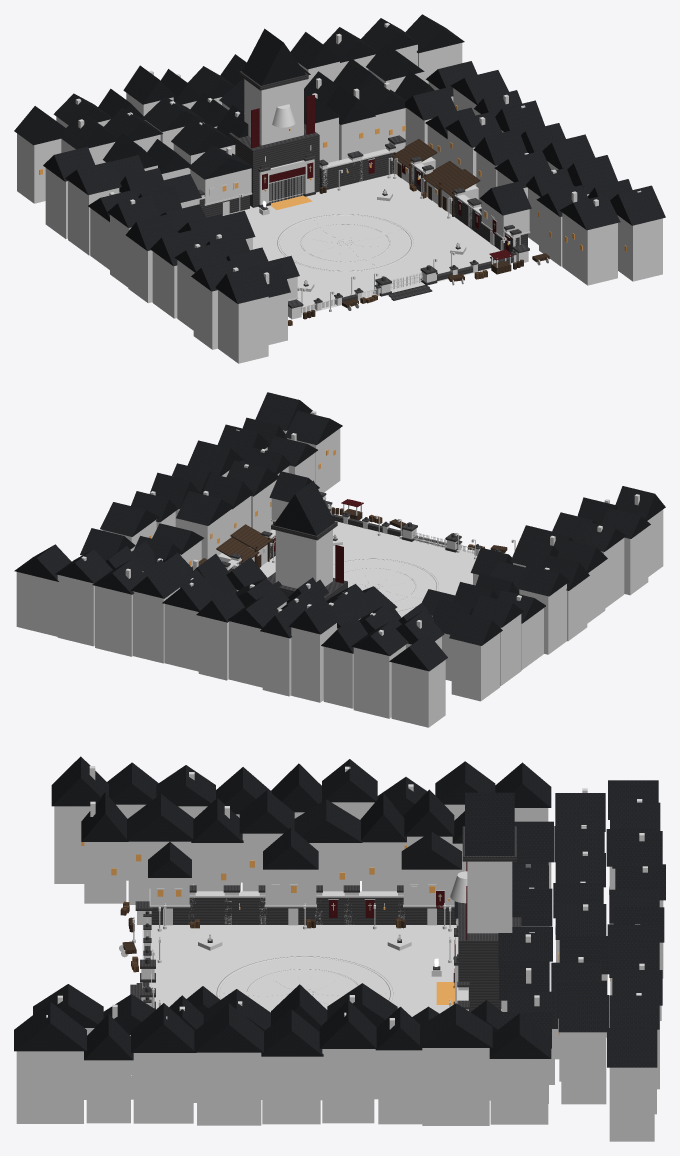
File: town_boss_blackbell_01.fbx
3 views of the same model, one above another, from view 1: azimuth 30°, elevation 25°; view 2: azimuth 150°, elevation 25°; view 3: azimuth 270°, elevation 25° (orthographic). The views are drawn at different scales.
Visible parts, largest first — view 1: _MeshInstance3D_4053, _MeshInstance3D_4834, _MeshInstance3D_4568, _MeshInstance3D_4442, _MeshInstance3D_4835, _MeshInstance3D_4603, _MeshInstance3D_4837, _MeshInstance3D_4159, _MeshInstance3D_4415, _MeshInstance3D_4604, _MeshInstance3D_4438, _MeshInstance3D_4443 (+84 smaller); view 2: _MeshInstance3D_4053, _MeshInstance3D_4159, _MeshInstance3D_4835, _MeshInstance3D_4411, _MeshInstance3D_4162, _MeshInstance3D_4195, _MeshInstance3D_4168, _MeshInstance3D_4191, _MeshInstance3D_4198, _MeshInstance3D_4188, _MeshInstance3D_4183, _MeshInstance3D_4176 (+73 smaller); view 3: _MeshInstance3D_4053, _MeshInstance3D_4578, _MeshInstance3D_4603, _MeshInstance3D_4591, _MeshInstance3D_4594, _MeshInstance3D_4589, _MeshInstance3D_4586, _MeshInstance3D_4574, _MeshInstance3D_4198, _MeshInstance3D_4583, _MeshInstance3D_4157, _MeshInstance3D_4835 (+80 smaller).
Boxes of the visible parts, x1,y1,x2,y2 form: _MeshInstance3D_4053: [222, 173, 512, 314]; _MeshInstance3D_4834: [228, 124, 319, 207]; _MeshInstance3D_4568: [562, 212, 617, 285]; _MeshInstance3D_4442: [218, 290, 268, 363]; _MeshInstance3D_4835: [244, 79, 303, 145]; _MeshInstance3D_4603: [617, 215, 662, 281]; _MeshInstance3D_4837: [242, 28, 305, 85]; _MeshInstance3D_4159: [17, 133, 61, 203]; _MeshInstance3D_4415: [68, 180, 119, 255]; _MeshInstance3D_4604: [610, 185, 665, 225]; _MeshInstance3D_4438: [193, 279, 217, 349]; _MeshInstance3D_4443: [215, 265, 271, 303]; _MeshInstance3D_4053: [260, 521, 477, 617]; _MeshInstance3D_4159: [391, 660, 445, 727]; _MeshInstance3D_4835: [275, 529, 332, 588]; _MeshInstance3D_4411: [451, 633, 500, 701]; _MeshInstance3D_4162: [353, 645, 405, 718]; _MeshInstance3D_4195: [57, 575, 94, 646]; _MeshInstance3D_4168: [291, 623, 336, 702]; _MeshInstance3D_4191: [95, 585, 132, 656]; _MeshInstance3D_4198: [16, 572, 57, 636]; _MeshInstance3D_4188: [133, 587, 180, 663]; _MeshInstance3D_4183: [164, 604, 198, 671]; _MeshInstance3D_4176: [229, 621, 262, 687]; _MeshInstance3D_4053: [142, 925, 456, 1016]; _MeshInstance3D_4578: [422, 1048, 489, 1125]; _MeshInstance3D_4603: [16, 1051, 83, 1123]; _MeshInstance3D_4591: [197, 1052, 261, 1125]; _MeshInstance3D_4594: [133, 1053, 193, 1123]; _MeshInstance3D_4589: [262, 1056, 320, 1124]; _MeshInstance3D_4586: [322, 1049, 374, 1123]; _MeshInstance3D_4574: [490, 1059, 548, 1124]; _MeshInstance3D_4198: [609, 1067, 654, 1141]; _MeshInstance3D_4583: [378, 1050, 422, 1124]; _MeshInstance3D_4157: [561, 1032, 606, 1104]; _MeshInstance3D_4835: [467, 861, 512, 933].
Size of what is drawn, in the model's own units: 7418 by 2520 by 7228.
Materials: 17 (5 with a texture image).
